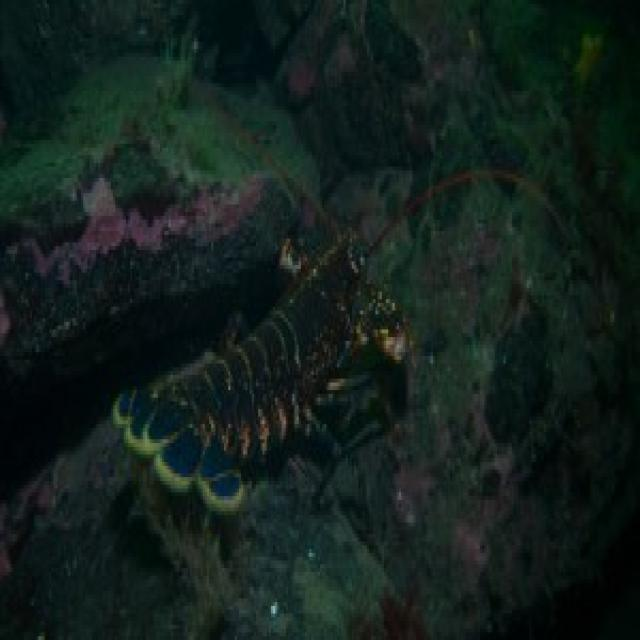lobsters: (125, 216, 480, 562)
